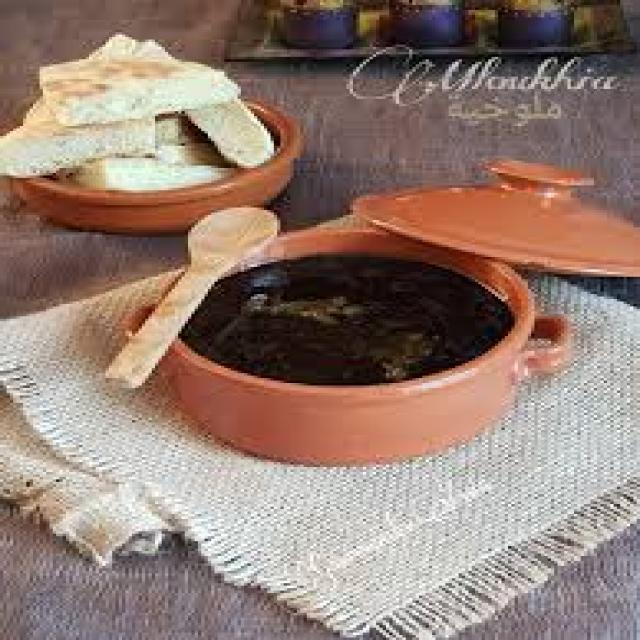Melloukhia: (147, 220, 541, 472)
